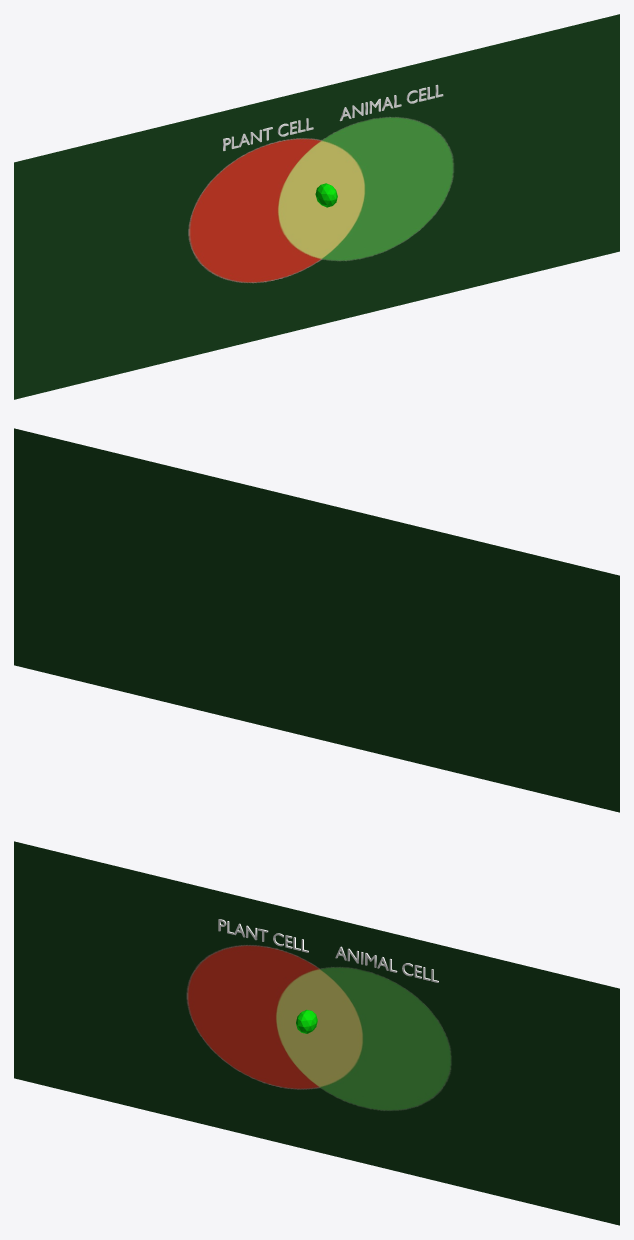
Rendered from lysosomes.gltf.
The picture shows the model from 3 angles, top to bottom: view 1: azimuth 30°, elevation 25°; view 2: azimuth 150°, elevation 25°; view 3: azimuth 330°, elevation 25°; orthographic projection.
Visible parts, largest first — view 1: Plane.039, Plane.013, Text.009, Text.008; view 2: Plane.013; view 3: Plane.039, Plane.013, Text.009, Text.008.
Boxes of the visible parts, x1,y1,x2,y2 form: Plane.039: (120,41,523,370); Plane.013: (14,14,619,399); Text.009: (339,84,443,121); Text.008: (223,118,313,150); Plane.013: (14,428,619,812); Plane.039: (118,869,521,1198); Plane.013: (14,841,619,1225); Text.009: (335,946,438,982); Text.008: (218,919,308,952).
Size of the model in its own units: 15.94 by 5.96 by 0.7556.
Materials: 5 (1 with a texture image).
